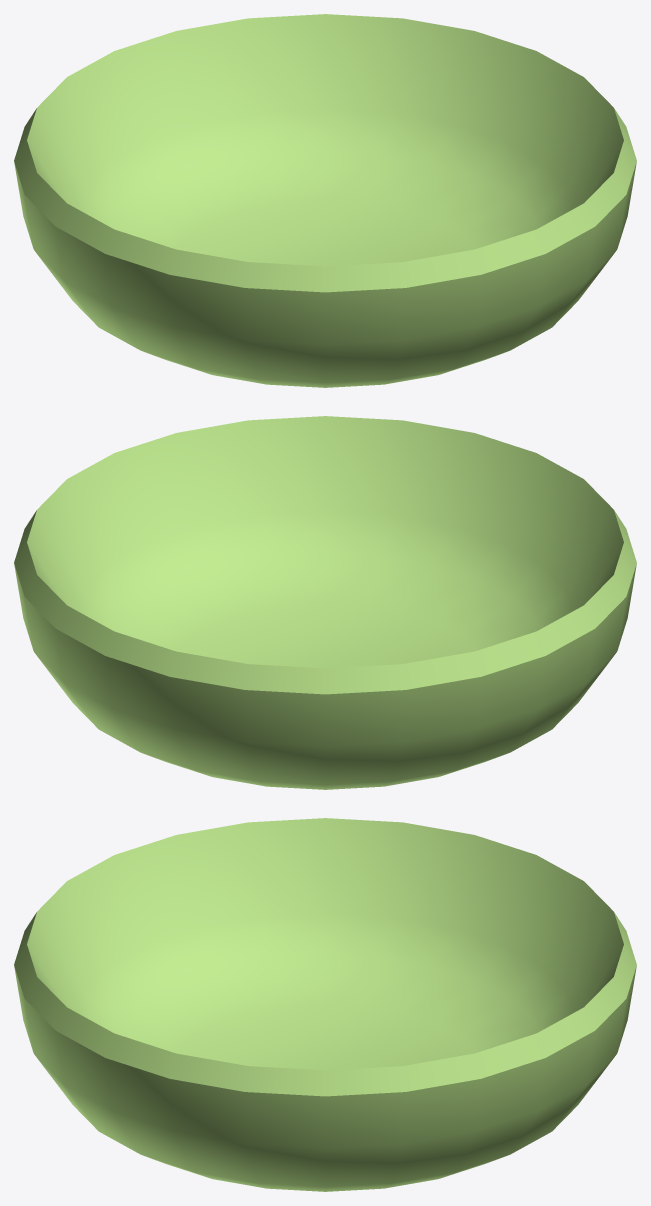
The model's file is bowl.fbx.
3 renders of one model, top to bottom at view 1: azimuth 30°, elevation 25°; view 2: azimuth 150°, elevation 25°; view 3: azimuth 270°, elevation 25°, orthographic.
Parts seen in each view (by area): view 1: Bowl; view 2: Bowl; view 3: Bowl.
Part boxes in pixels (left/top/right/bottom): Bowl: left=14, top=14, right=636, bottom=387; Bowl: left=14, top=416, right=636, bottom=789; Bowl: left=14, top=818, right=636, bottom=1191.
Size of the model in its own units: 10.09 by 10.09 by 3.1.
